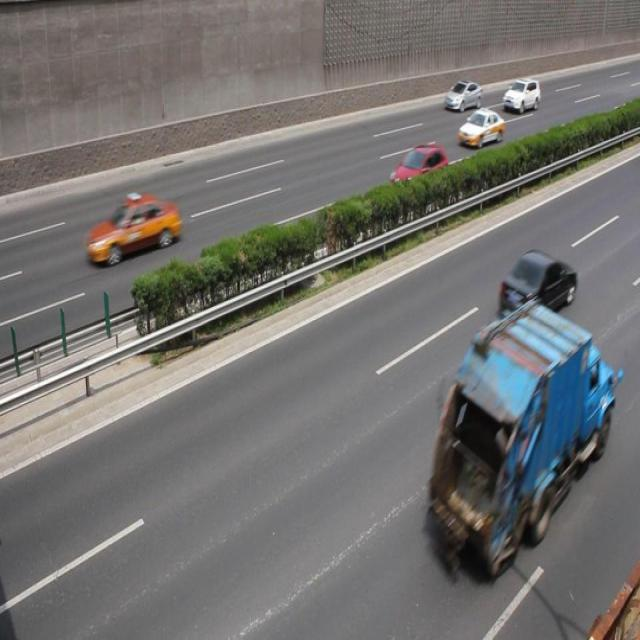bus: (422, 300, 616, 576)
car: (83, 190, 182, 266), (497, 246, 575, 329), (386, 142, 449, 205), (456, 107, 503, 148), (443, 79, 481, 114), (501, 80, 539, 112)
